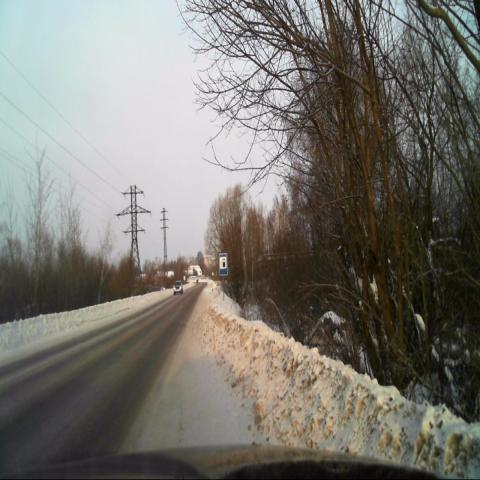7_3: (218, 253, 228, 275)
